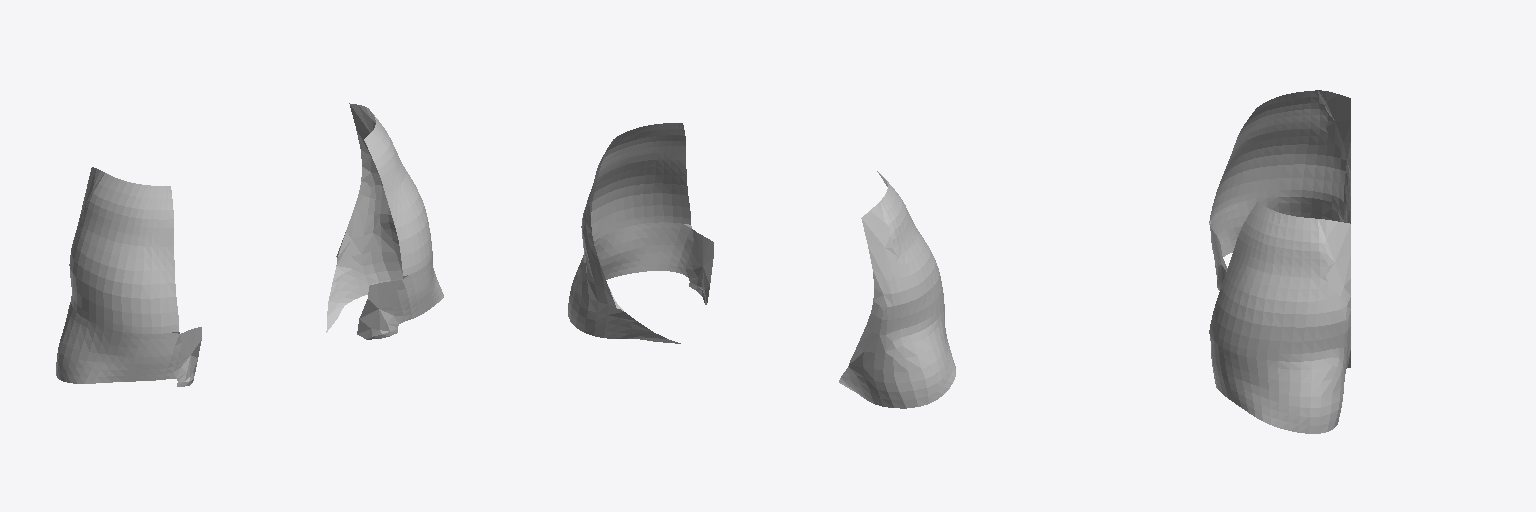
File: armCover.obj
3 views of the same model, side by side, from view 1: azimuth 30°, elevation 25°; view 2: azimuth 150°, elevation 25°; view 3: azimuth 270°, elevation 25° (orthographic).
Parts seen in each view (by area): view 1: ???; view 2: ???; view 3: ???.
Part boxes in pixels (x1,y1,x2,y2): ???: (56, 103, 443, 386); ???: (568, 123, 955, 408); ???: (1209, 90, 1350, 433).
Bounding box in the file's own units: 33.88 × 17.68 × 11.19.